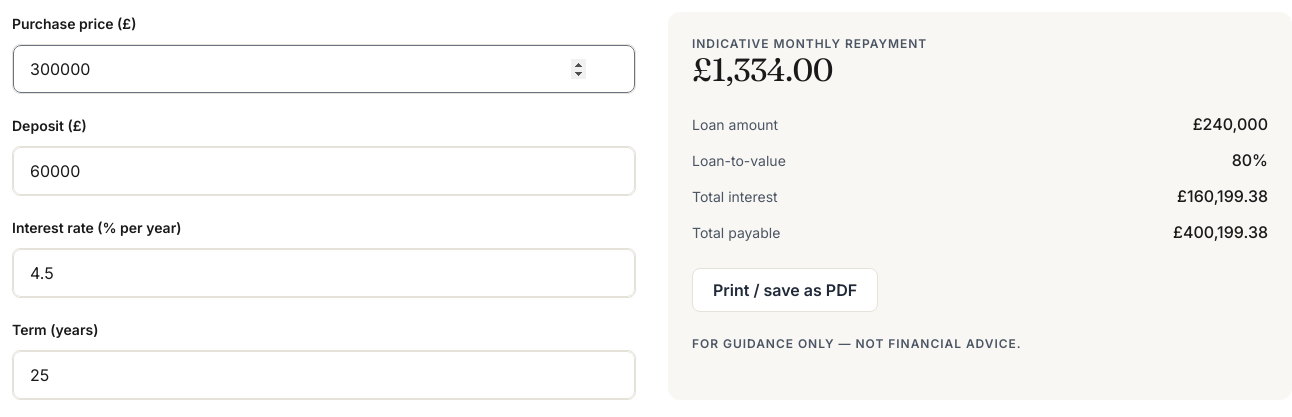
Test: MortgageCalculator › recomputes when an input changes
// Raise the rate → the monthly repayment must increase.
Replace the text in the number field labelled "Interest rate (% per year)" with "6" at (324, 273), box [13,249,635,297]
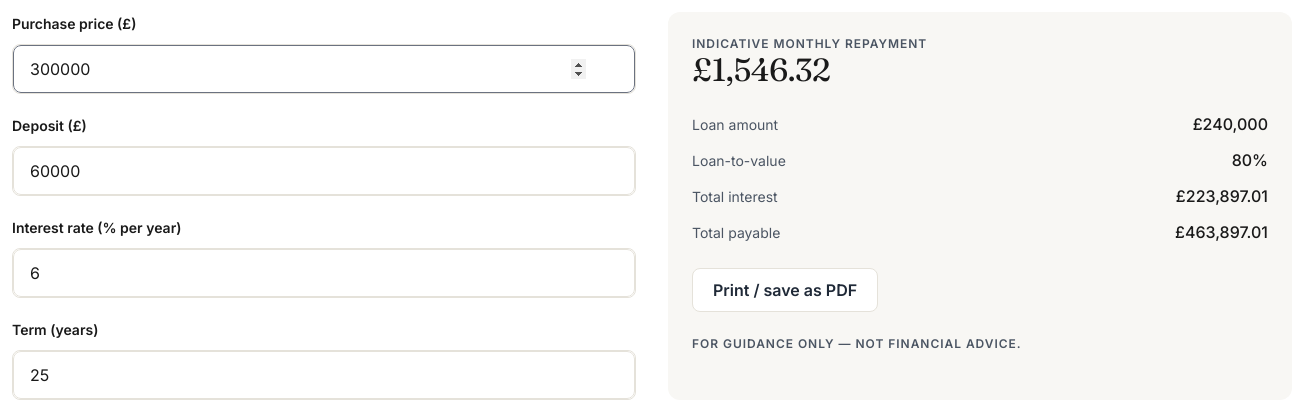
Result: the text with test id "monthly-repayment" no longer shows "£1,334.00"
